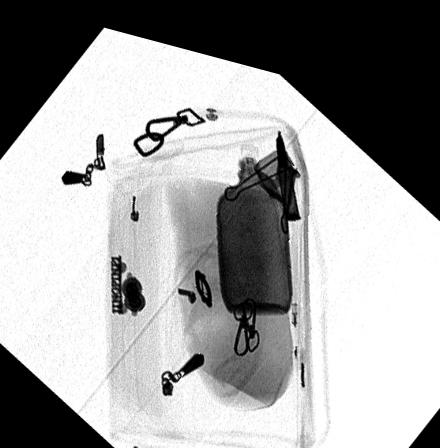Bullet: (273, 111, 301, 207)
